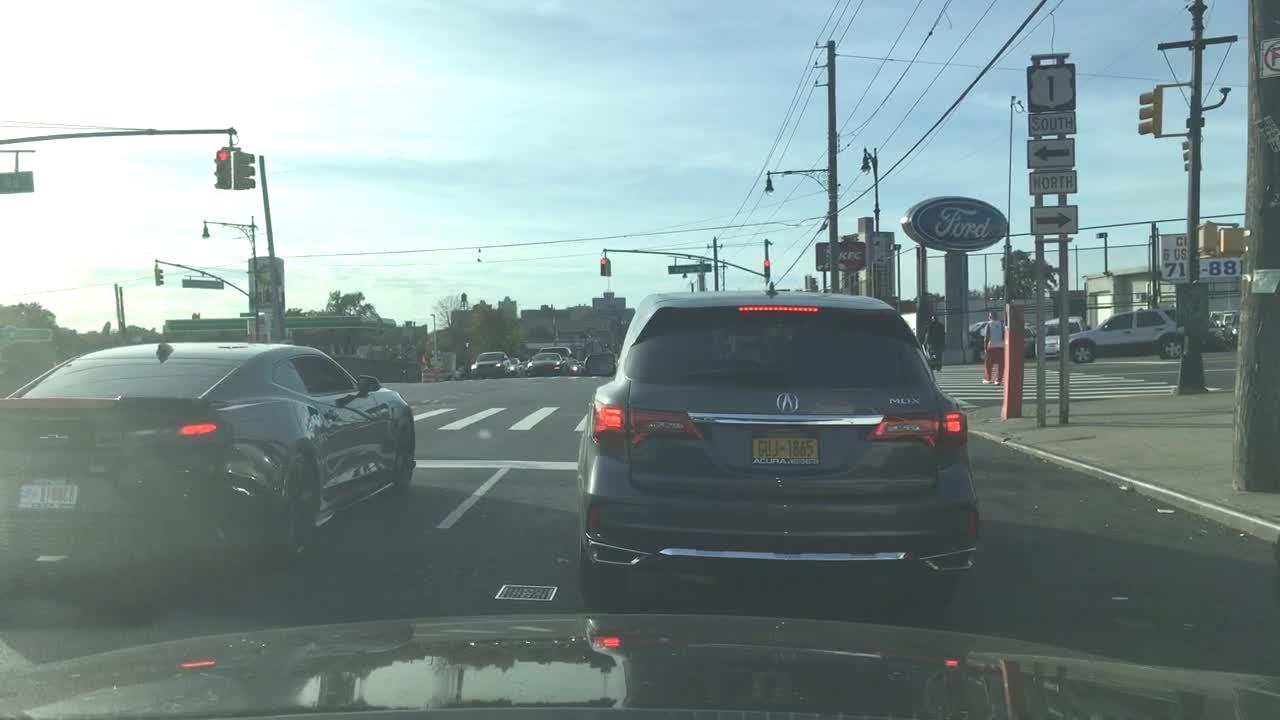acura: (761, 382, 809, 424)
chevrolet: (21, 426, 89, 457)
